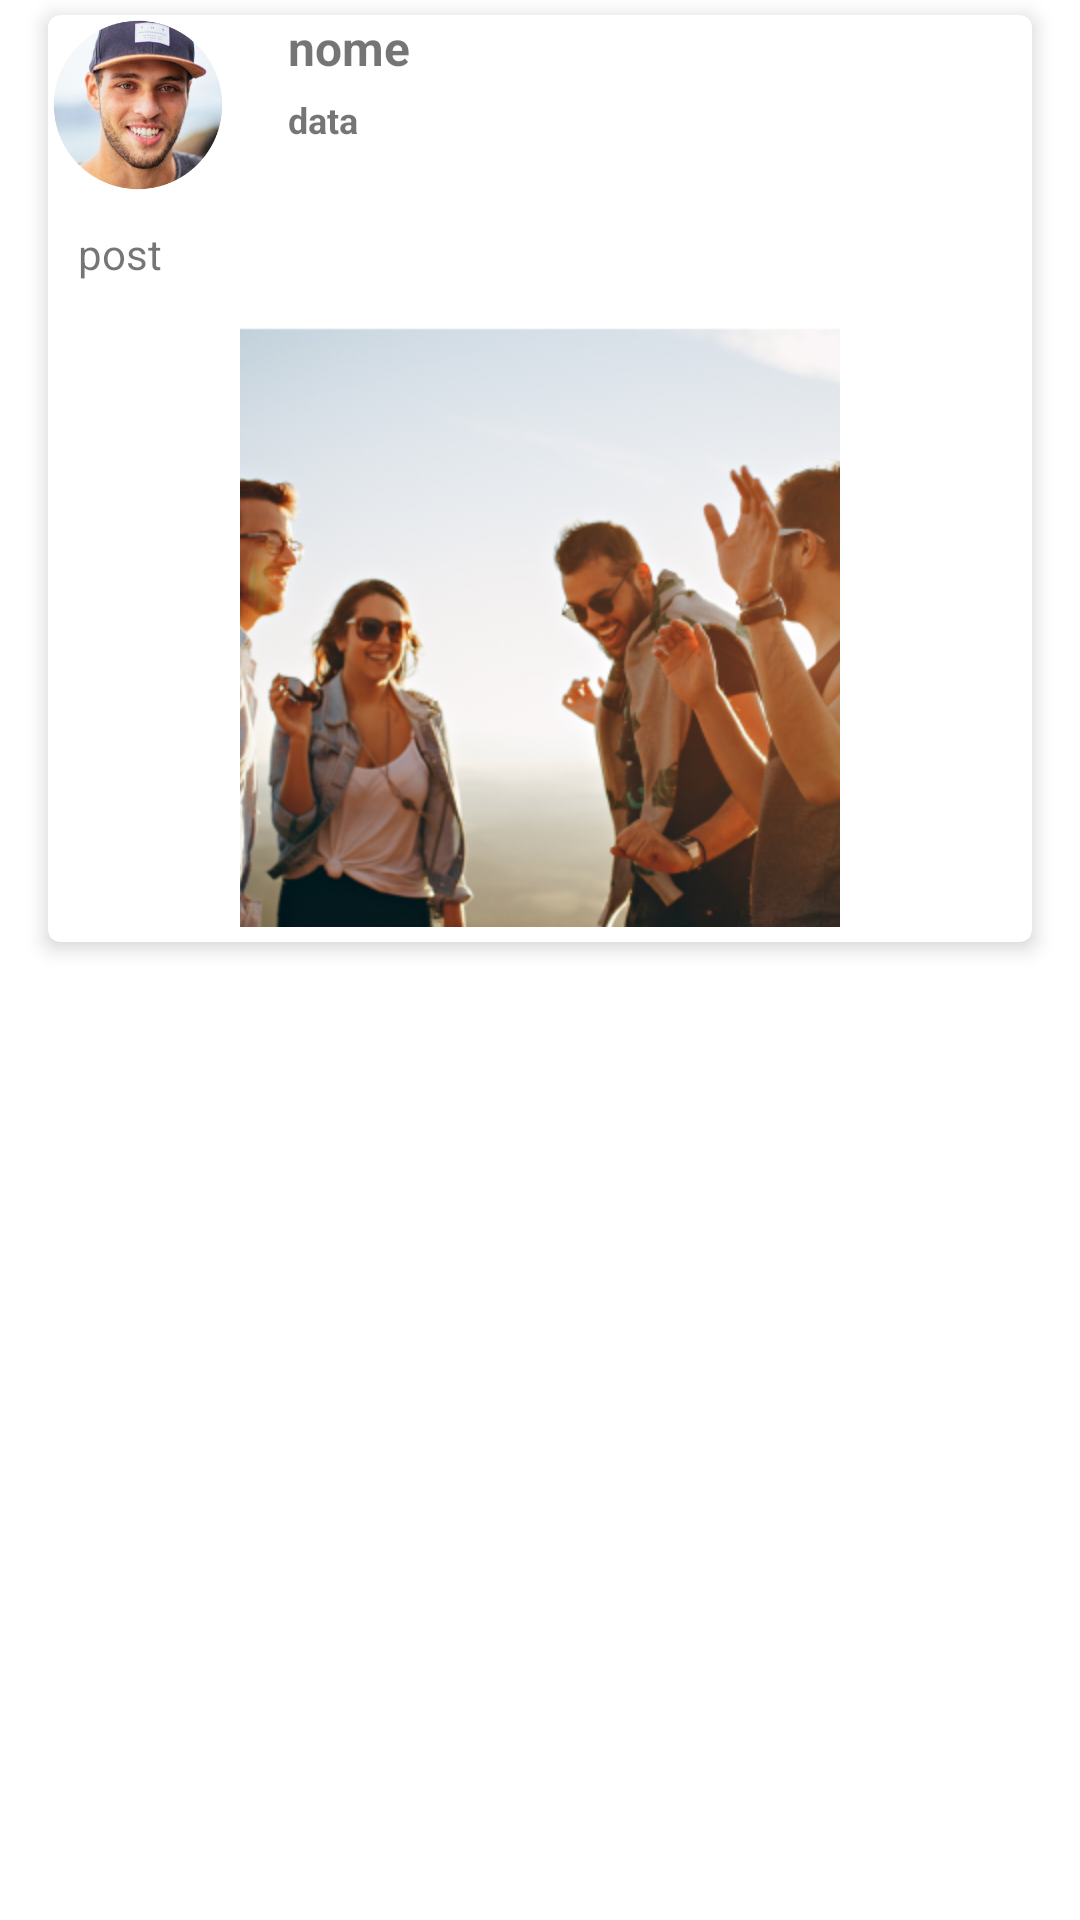

Where icons sit on this 1080 × 1920 app screen, as (x1, y1, x2, y2):
perfil: (54, 21, 222, 189)
